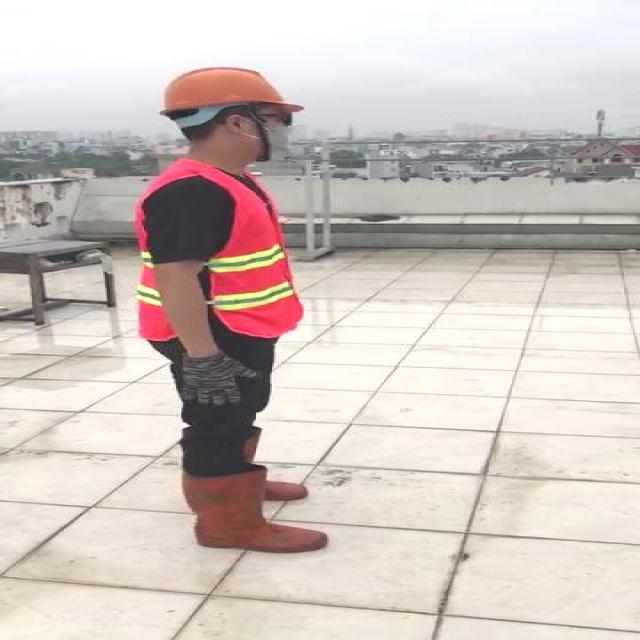boots: (185, 467, 329, 552)
face_mask: (230, 103, 305, 163)
hand_glove: (180, 353, 258, 407)
head_helmet: (152, 63, 312, 121)
person: (126, 59, 363, 568)
vest: (139, 160, 302, 345)
